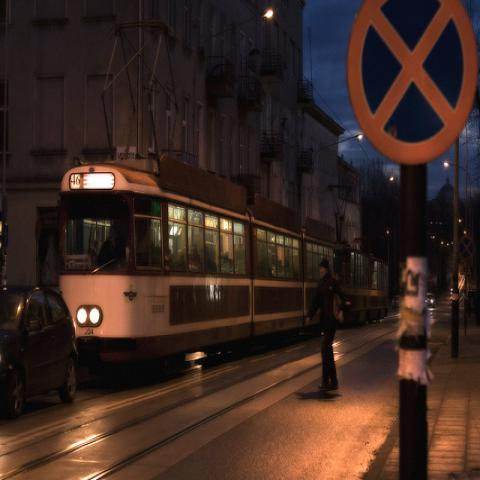car: (3, 286, 78, 420), (427, 292, 435, 308)
